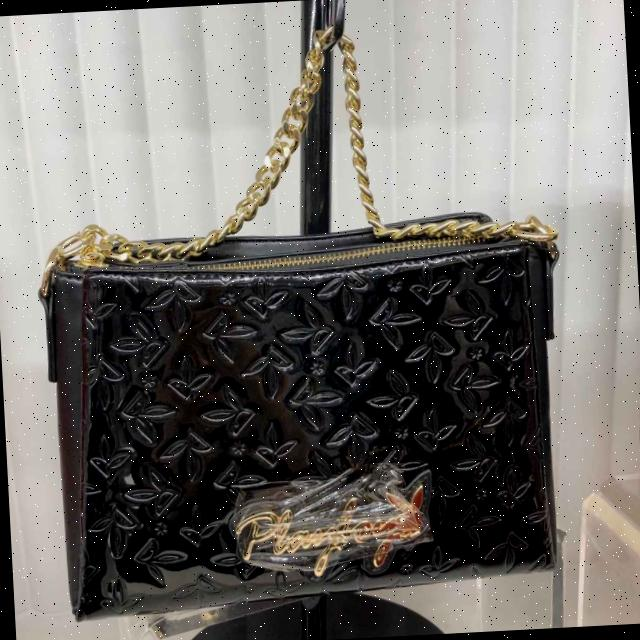Handbag: (38, 203, 581, 632)
